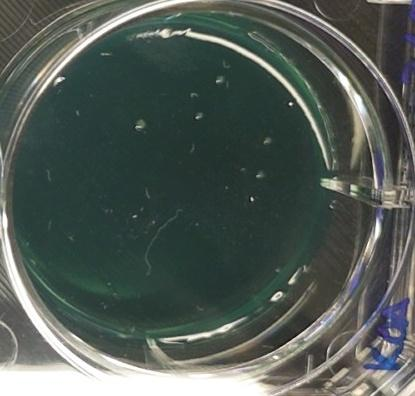vangil: (133, 116, 150, 138), (261, 134, 275, 151), (212, 74, 226, 89), (193, 112, 209, 125), (254, 168, 265, 181)
